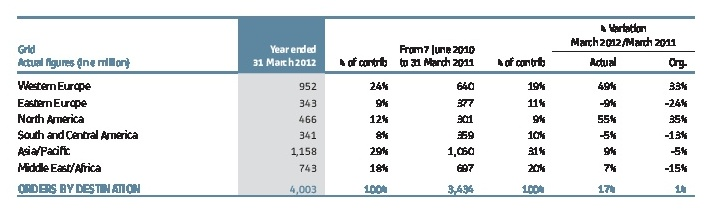table: (0, 0, 707, 214)
